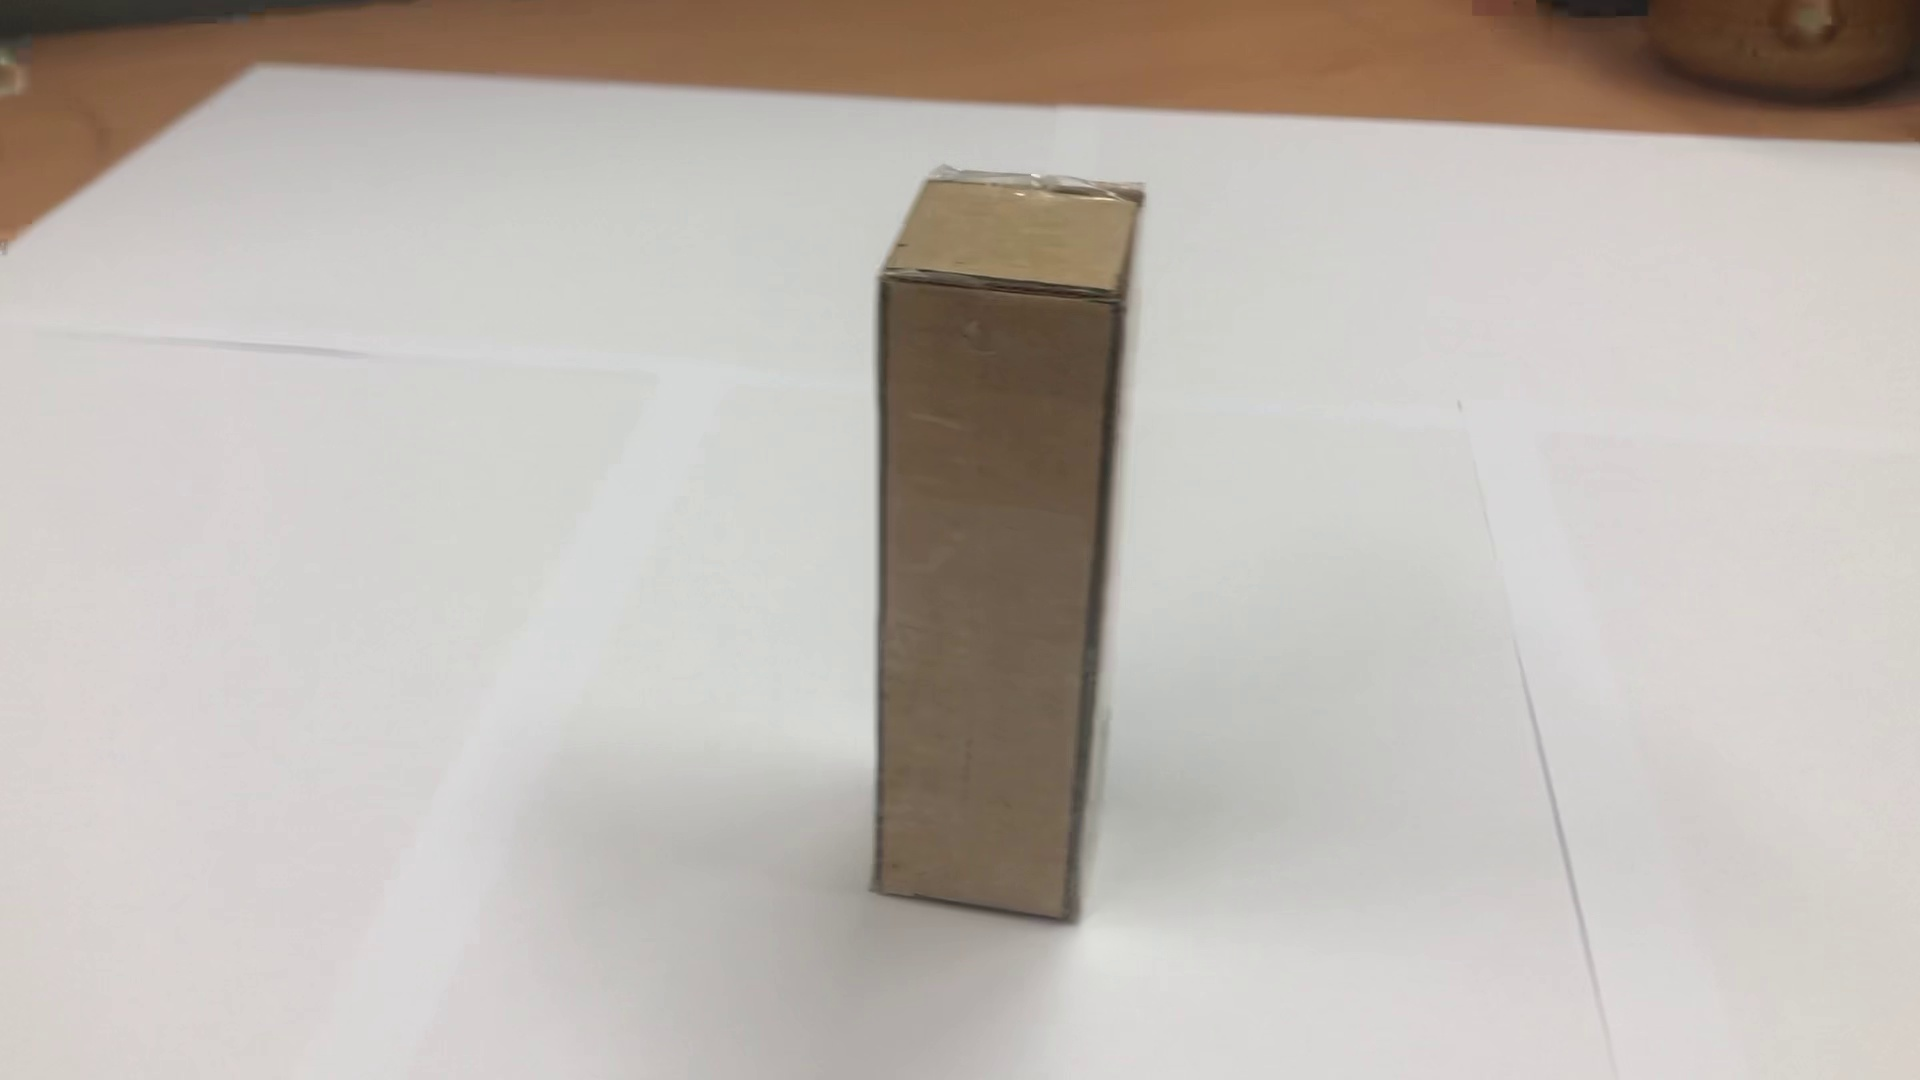box: (829, 148, 1168, 948)
